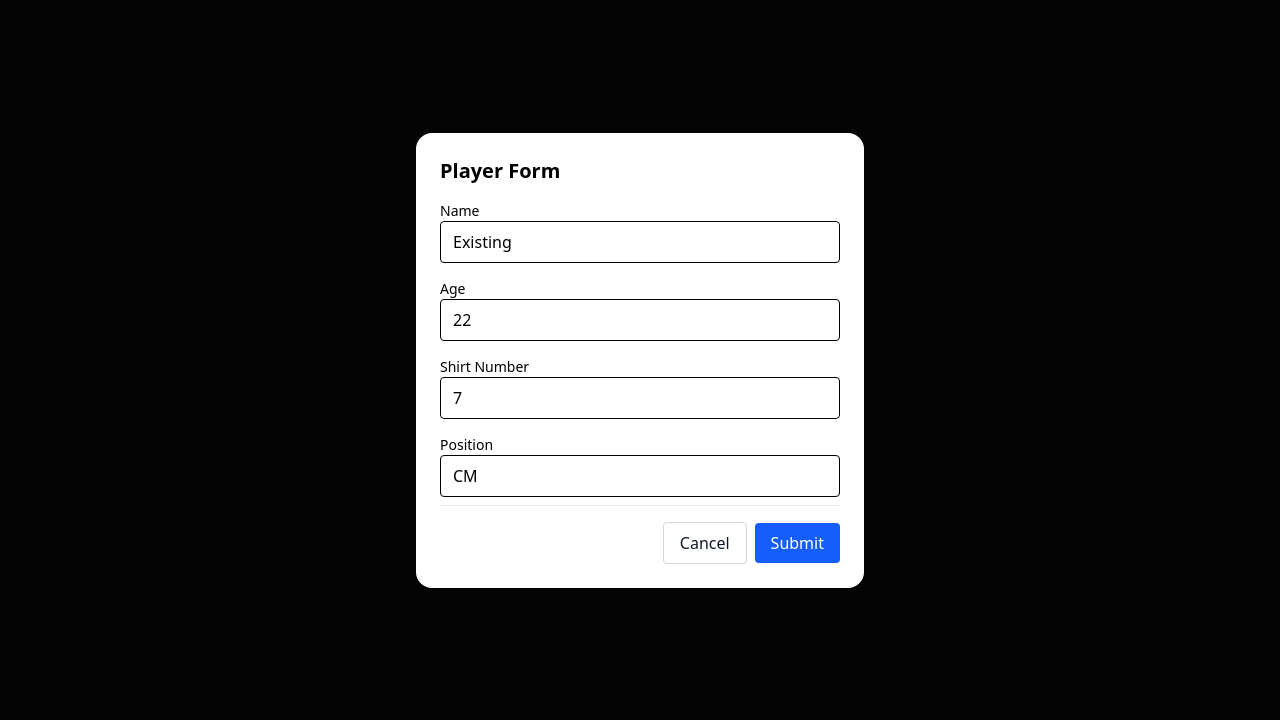
Test: a rejected update keeps the popup open with an inline error
Click the button "Submit".
click(797, 542)  # box [755,522,840,562]
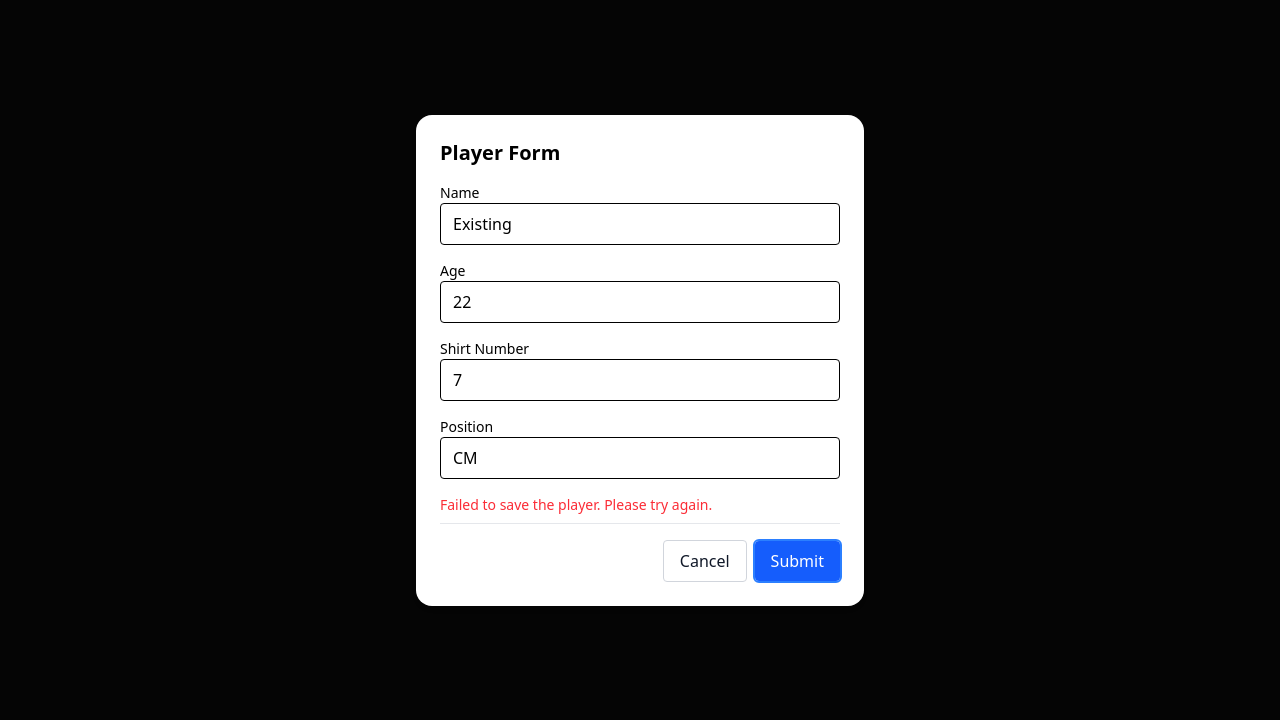
Check: the text "Failed to save the player. Please try again." is shown, box [440,494,712,514]
